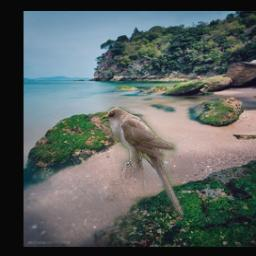Cuckoo: (101, 108, 184, 219)
